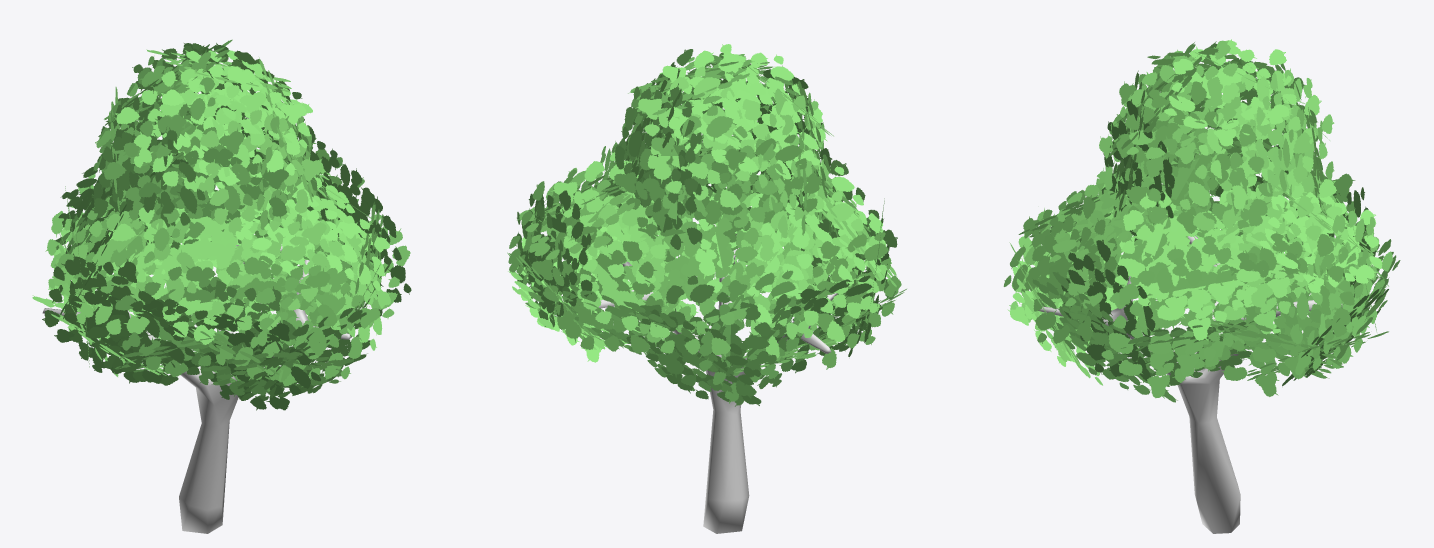
Rendered from Tree3.fbx.
3 views of the same model, side by side, from view 1: azimuth 30°, elevation 25°; view 2: azimuth 150°, elevation 25°; view 3: azimuth 270°, elevation 25° (orthographic).
Visible parts, largest first — view 1: Plane; view 2: Plane; view 3: Plane.
Boxes of the visible parts, left/top/right/bottom form: Plane: left=32, top=39, right=411, bottom=533; Plane: left=507, top=44, right=906, bottom=533; Plane: left=1003, top=39, right=1400, bottom=533.
Size of the model in its own units: 10.77 by 13.41 by 10.59.
